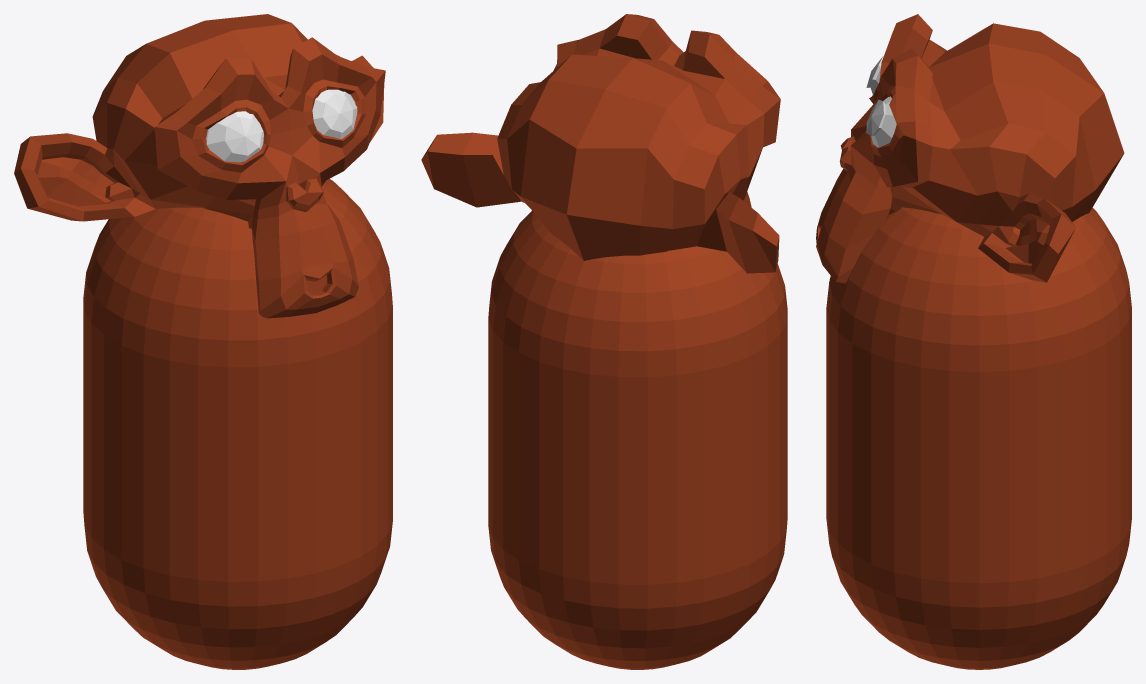
File: monkey.gltf
3 renders of one model, left to right at view 1: azimuth 30°, elevation 25°; view 2: azimuth 150°, elevation 25°; view 3: azimuth 270°, elevation 25°, orthographic. The views are drawn at different scales.
Parts seen in each view (by area): view 1: Sphere; view 2: Sphere; view 3: Sphere.
Boxes of the visible parts, <box> form: Sphere: <box>14,14,392,669</box>; Sphere: <box>421,14,787,669</box>; Sphere: <box>816,14,1131,669</box>.
Bounding box in the file's own units: 0.957 × 1.57 × 0.723.
